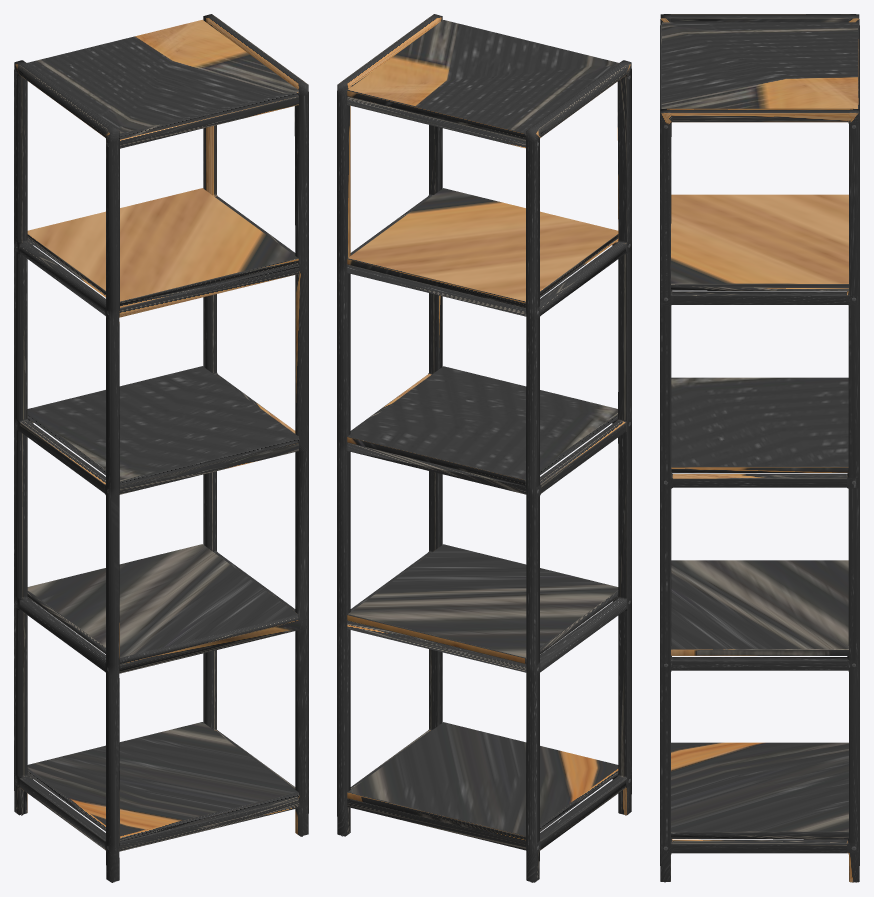
File: steel_frame_shelves_02.glb
The picture shows the model from 3 angles, left to right: view 1: azimuth 30°, elevation 25°; view 2: azimuth 150°, elevation 25°; view 3: azimuth 270°, elevation 25°; orthographic projection. The views are drawn at different scales.
Parts seen in each view (by area): view 1: steel_frame_shelves_02; view 2: steel_frame_shelves_02; view 3: steel_frame_shelves_02.
Boxes of the visible parts, <box> form: steel_frame_shelves_02: <box>14,14,308,882</box>; steel_frame_shelves_02: <box>337,14,631,882</box>; steel_frame_shelves_02: <box>660,14,859,882</box>.
Bounding box in the file's own units: 0.5933 × 2.14 × 0.5024.
Materials: 1 (1 with a texture image).
